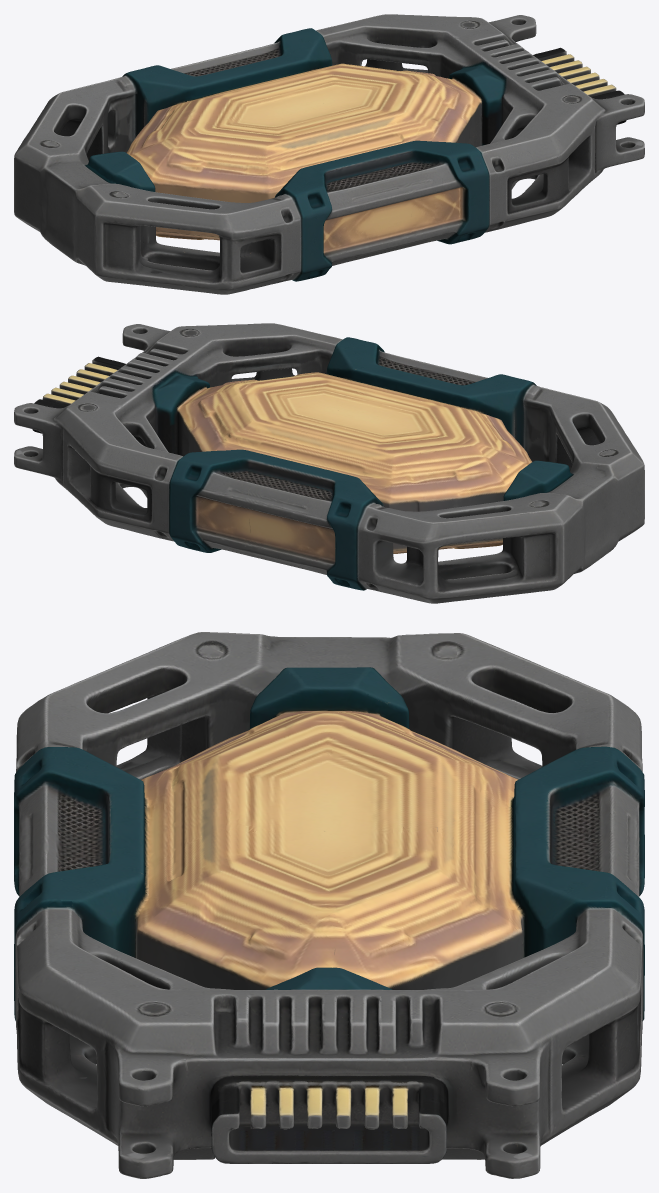
Rendered from Meshy_AI_Amber_Core_Data_Shard_1023105830_texture.glb.
3 renders of one model, top to bottom at view 1: azimuth 30°, elevation 25°; view 2: azimuth 150°, elevation 25°; view 3: azimuth 270°, elevation 25°, orthographic. The views are drawn at different scales.
Size of the model in its own units: 1.9 by 0.3369 by 1.13.
1 material, 1 textured.
